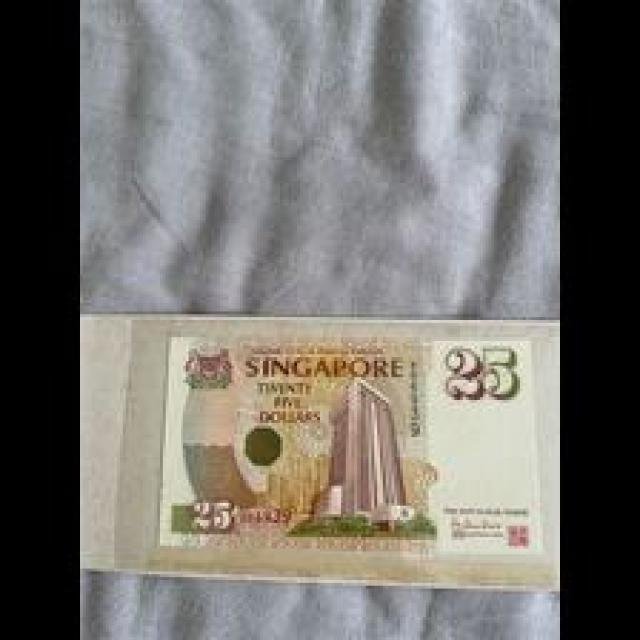banknote: (80, 312, 557, 592), (440, 342, 541, 408), (252, 377, 328, 429), (178, 492, 245, 536)
